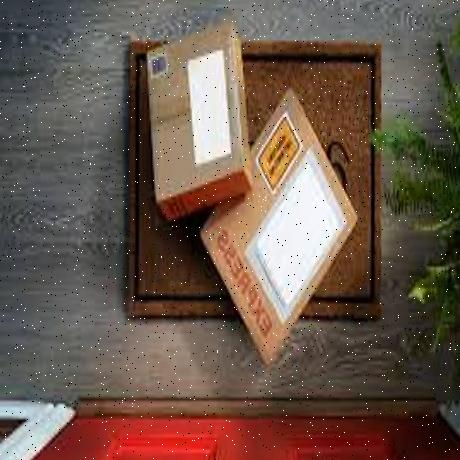Other: (205, 89, 362, 369), (133, 9, 253, 214)
